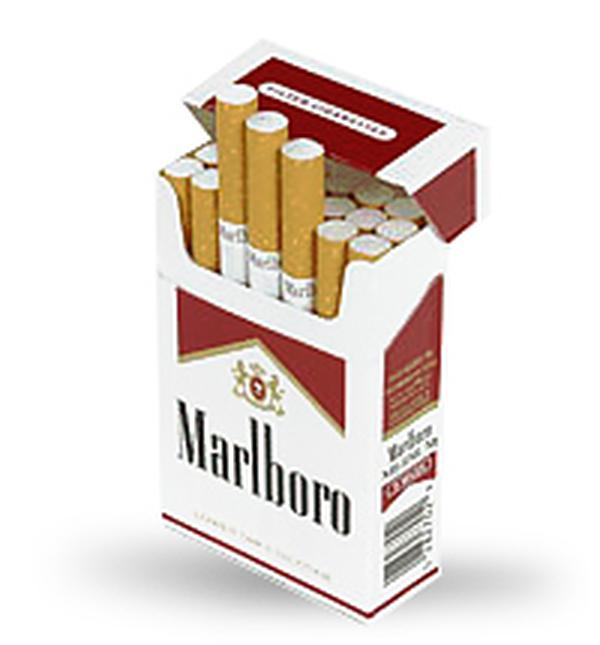marlboro_red: (163, 245, 364, 532)
